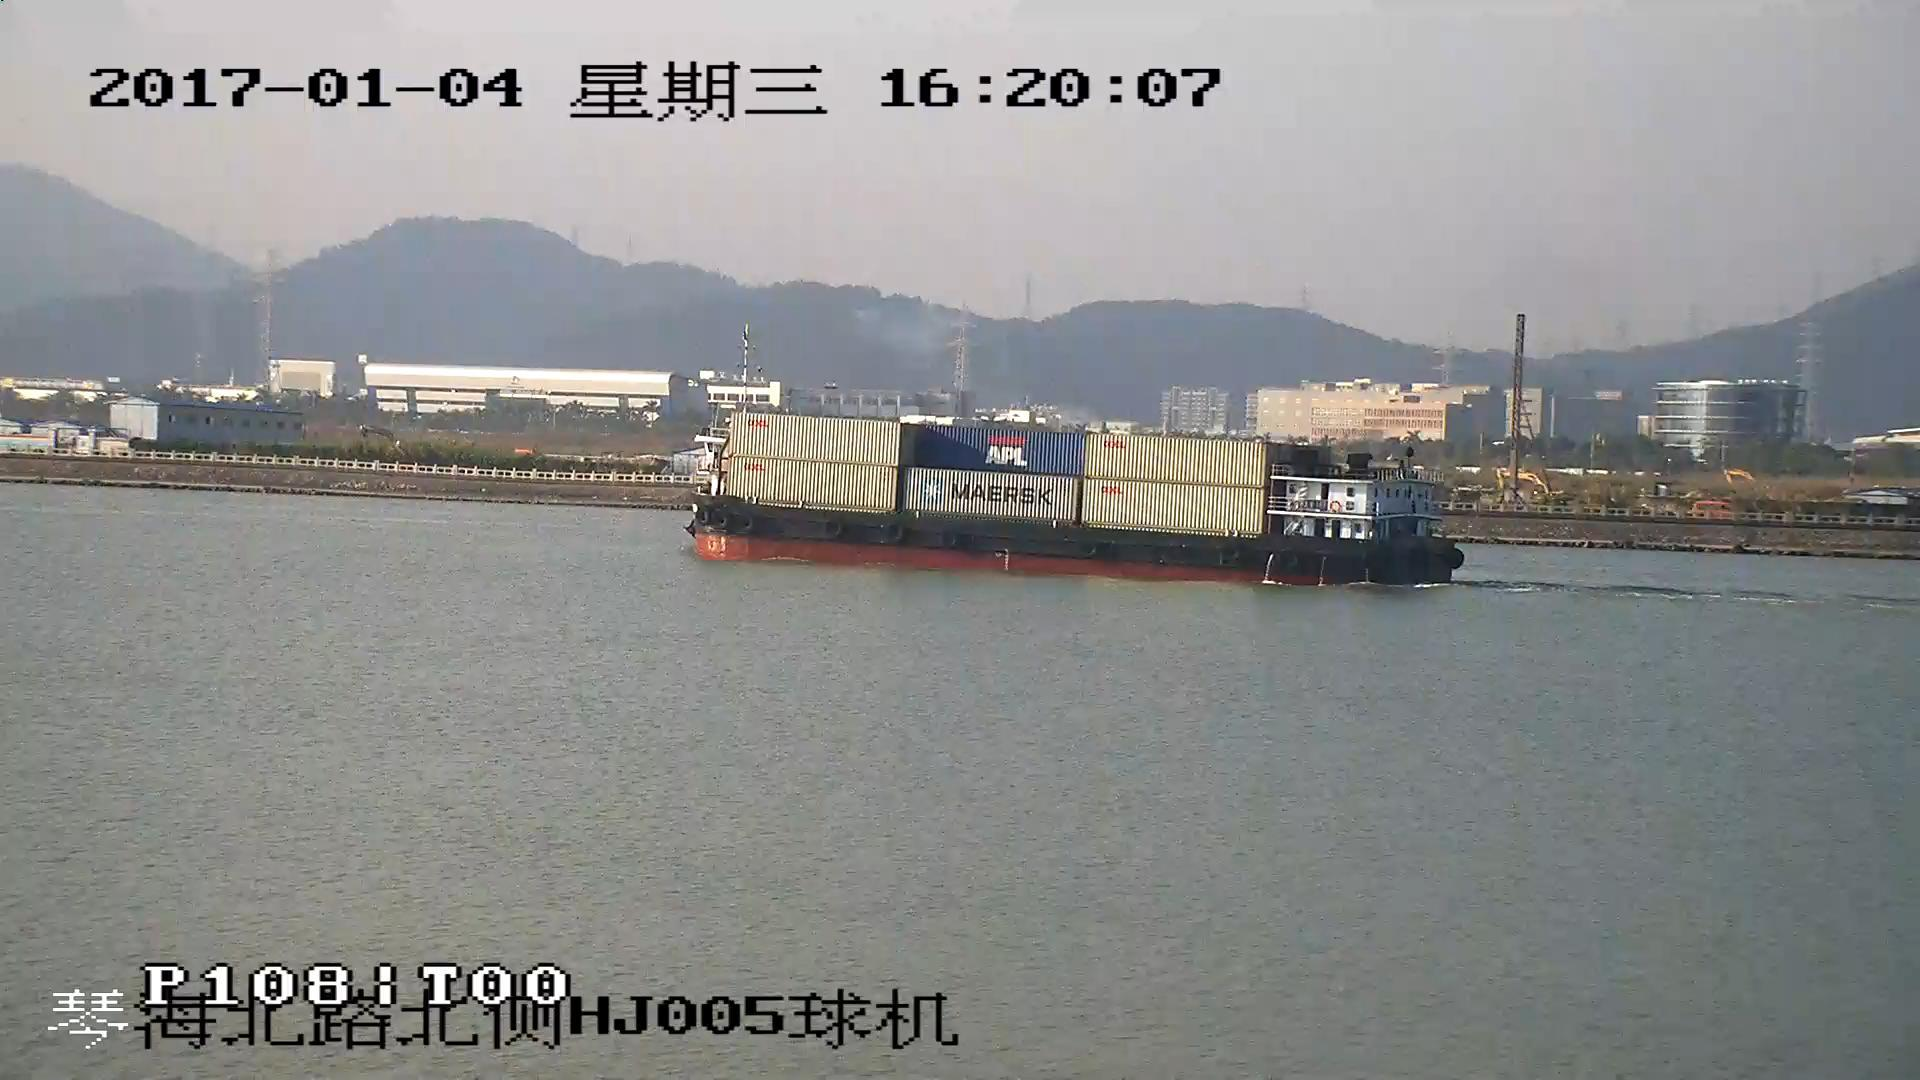Ship: (688, 413, 1466, 589)
